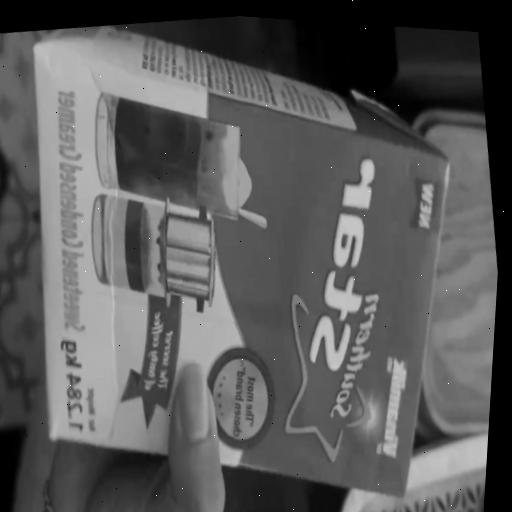ly_giay: (34, 27, 448, 495)
